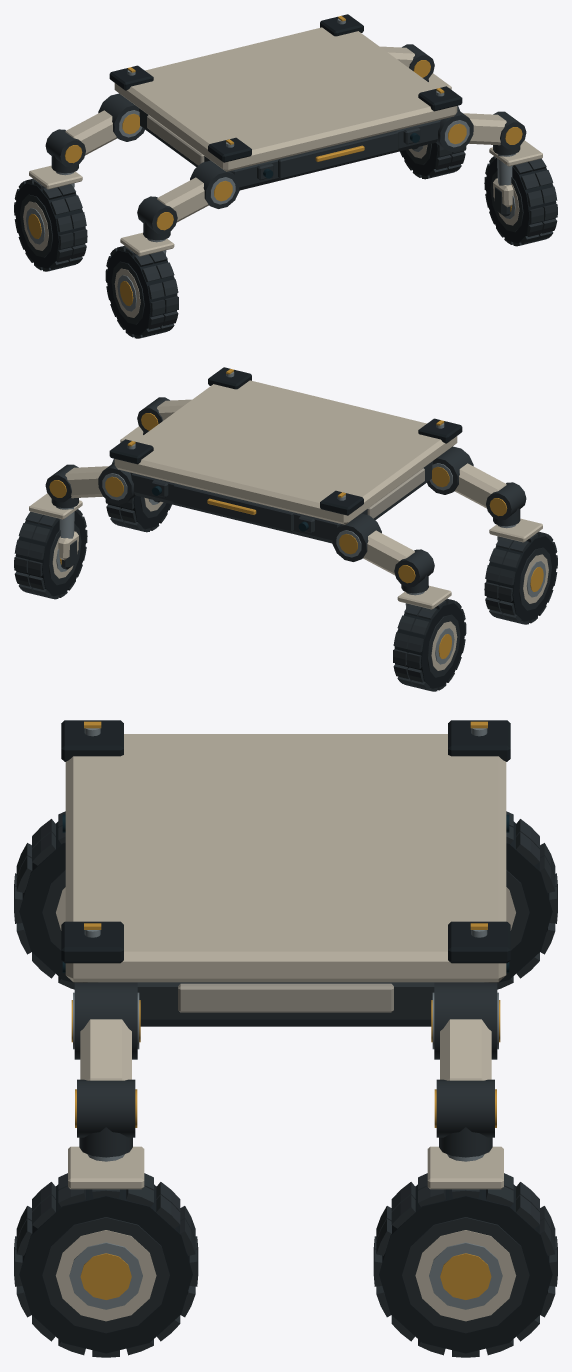
Rendered from stride_d0_lod1.meshopt.glb.
The picture shows the model from 3 angles, top to bottom: view 1: azimuth 30°, elevation 25°; view 2: azimuth 150°, elevation 25°; view 3: azimuth 270°, elevation 25°; orthographic projection. The views are drawn at different scales.
Visible parts, largest first — view 1: CHASSIS_SURFACE, WHEEL_RL_SURFACE, WHEEL_FL_SURFACE, WHEEL_FR_SURFACE, LEG_FL_UPPER_SURFACE, LEG_RL_UPPER_SURFACE, LEG_FR_UPPER_SURFACE, WHEEL_RR_SURFACE, LEG_FR_LOWER_SURFACE, LEG_RL_LOWER_SURFACE, LEG_FL_LOWER_SURFACE, LEG_FR_UPRIGHT_SURFACE (+3 smaller); view 2: CHASSIS_SURFACE, WHEEL_FL_SURFACE, WHEEL_RL_SURFACE, WHEEL_RR_SURFACE, LEG_RL_UPPER_SURFACE, LEG_FL_UPPER_SURFACE, LEG_RR_UPPER_SURFACE, WHEEL_FR_SURFACE, LEG_RR_LOWER_SURFACE, LEG_FL_LOWER_SURFACE, LEG_RL_LOWER_SURFACE, LEG_RR_UPRIGHT_SURFACE (+3 smaller); view 3: CHASSIS_SURFACE, WHEEL_FR_SURFACE, WHEEL_RR_SURFACE, WHEEL_FL_SURFACE, WHEEL_RL_SURFACE, LEG_FR_UPPER_SURFACE, LEG_RR_UPPER_SURFACE, LEG_FR_LOWER_SURFACE, LEG_RR_LOWER_SURFACE, LEG_FR_UPRIGHT_SURFACE, LEG_RR_UPRIGHT_SURFACE.
Part boxes in pixels (bbox=[...]): CHASSIS_SURFACE: bbox=[109, 14, 462, 190]; WHEEL_RL_SURFACE: bbox=[14, 178, 87, 271]; WHEEL_FL_SURFACE: bbox=[105, 245, 178, 338]; WHEEL_FR_SURFACE: bbox=[484, 156, 557, 246]; LEG_FL_UPPER_SURFACE: bbox=[157, 160, 239, 222]; LEG_RL_UPPER_SURFACE: bbox=[65, 93, 144, 155]; LEG_FR_UPPER_SURFACE: bbox=[436, 109, 506, 151]; WHEEL_RR_SURFACE: bbox=[400, 105, 466, 179]; LEG_FR_LOWER_SURFACE: bbox=[493, 111, 526, 207]; LEG_RL_LOWER_SURFACE: bbox=[45, 129, 85, 187]; LEG_FL_LOWER_SURFACE: bbox=[137, 196, 177, 255]; LEG_FR_UPRIGHT_SURFACE: bbox=[489, 140, 542, 216]; CHASSIS_SURFACE: bbox=[109, 367, 462, 543]; WHEEL_FL_SURFACE: bbox=[484, 531, 557, 624]; WHEEL_RL_SURFACE: bbox=[393, 598, 466, 691]; WHEEL_RR_SURFACE: bbox=[14, 509, 87, 599]; LEG_RL_UPPER_SURFACE: bbox=[332, 513, 414, 575]; LEG_FL_UPPER_SURFACE: bbox=[427, 446, 506, 508]; LEG_RR_UPPER_SURFACE: bbox=[65, 462, 135, 504]; WHEEL_FR_SURFACE: bbox=[105, 458, 171, 532]; LEG_RR_LOWER_SURFACE: bbox=[45, 464, 78, 560]; LEG_FL_LOWER_SURFACE: bbox=[486, 482, 526, 540]; LEG_RL_LOWER_SURFACE: bbox=[394, 549, 434, 608]; LEG_RR_UPRIGHT_SURFACE: bbox=[29, 493, 82, 569]; CHASSIS_SURFACE: bbox=[61, 720, 510, 1026]; WHEEL_FR_SURFACE: bbox=[14, 1173, 198, 1357]; WHEEL_RR_SURFACE: bbox=[373, 1173, 557, 1357]; WHEEL_FL_SURFACE: bbox=[14, 811, 74, 989]; WHEEL_RL_SURFACE: bbox=[497, 811, 557, 989]; LEG_FR_UPPER_SURFACE: bbox=[71, 982, 140, 1080]; LEG_RR_UPPER_SURFACE: bbox=[431, 982, 500, 1080]; LEG_FR_LOWER_SURFACE: bbox=[75, 1079, 137, 1161]; LEG_RR_LOWER_SURFACE: bbox=[434, 1079, 496, 1161]; LEG_FR_UPRIGHT_SURFACE: bbox=[68, 1146, 144, 1189]; LEG_RR_UPRIGHT_SURFACE: bbox=[427, 1146, 503, 1189].
Bounding box in the file's own units: 2.07 × 0.833 × 1.21.
